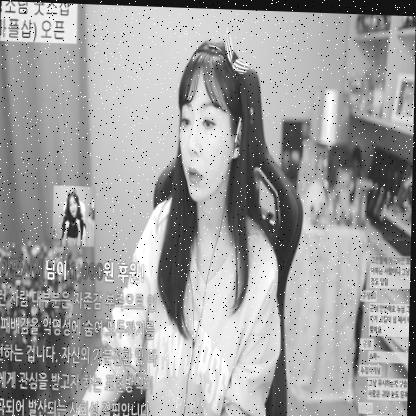donation: (0, 180, 162, 416)
streamer: (65, 33, 288, 416)
